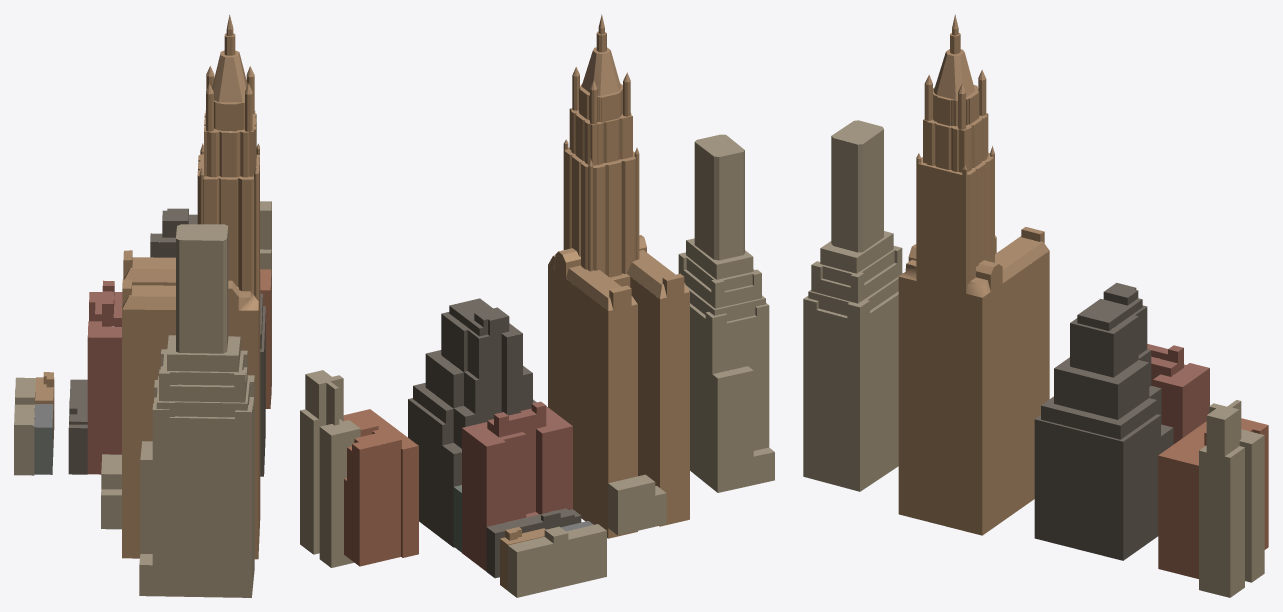
File: tile--5_10.glb
The picture shows the model from 3 angles, left to right: view 1: azimuth 30°, elevation 25°; view 2: azimuth 150°, elevation 25°; view 3: azimuth 270°, elevation 25°; orthographic projection. The views are drawn at different scales.
Visible parts, largest first — view 1: wall, roof; view 2: wall, roof; view 3: wall, roof.
Part boxes in pixels (left/top/right/bottom): wall: left=14, top=29, right=271, bottom=597; roof: left=14, top=14, right=271, bottom=565; wall: left=300, top=27, right=774, bottom=597; roof: left=300, top=14, right=774, bottom=551; wall: left=803, top=28, right=1268, bottom=597; roof: left=803, top=14, right=1268, bottom=465.
Bounding box in the file's own units: 162 × 249 × 210.
